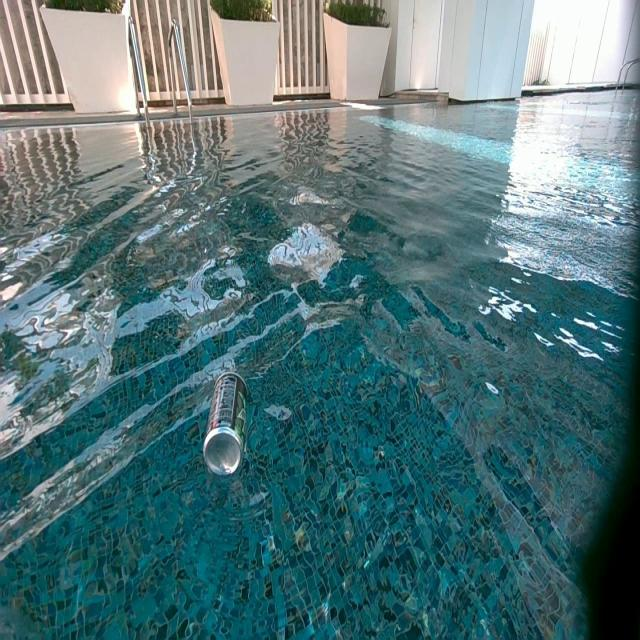Cans: (203, 366, 248, 478)
